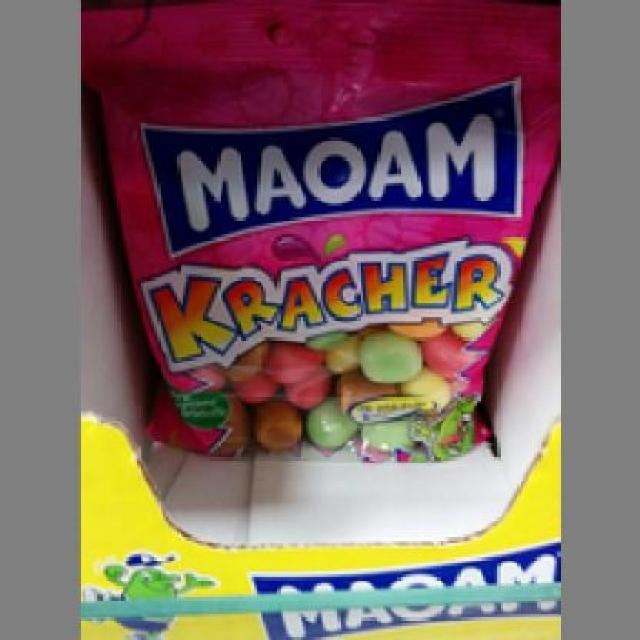Candy: (77, 6, 557, 454)
